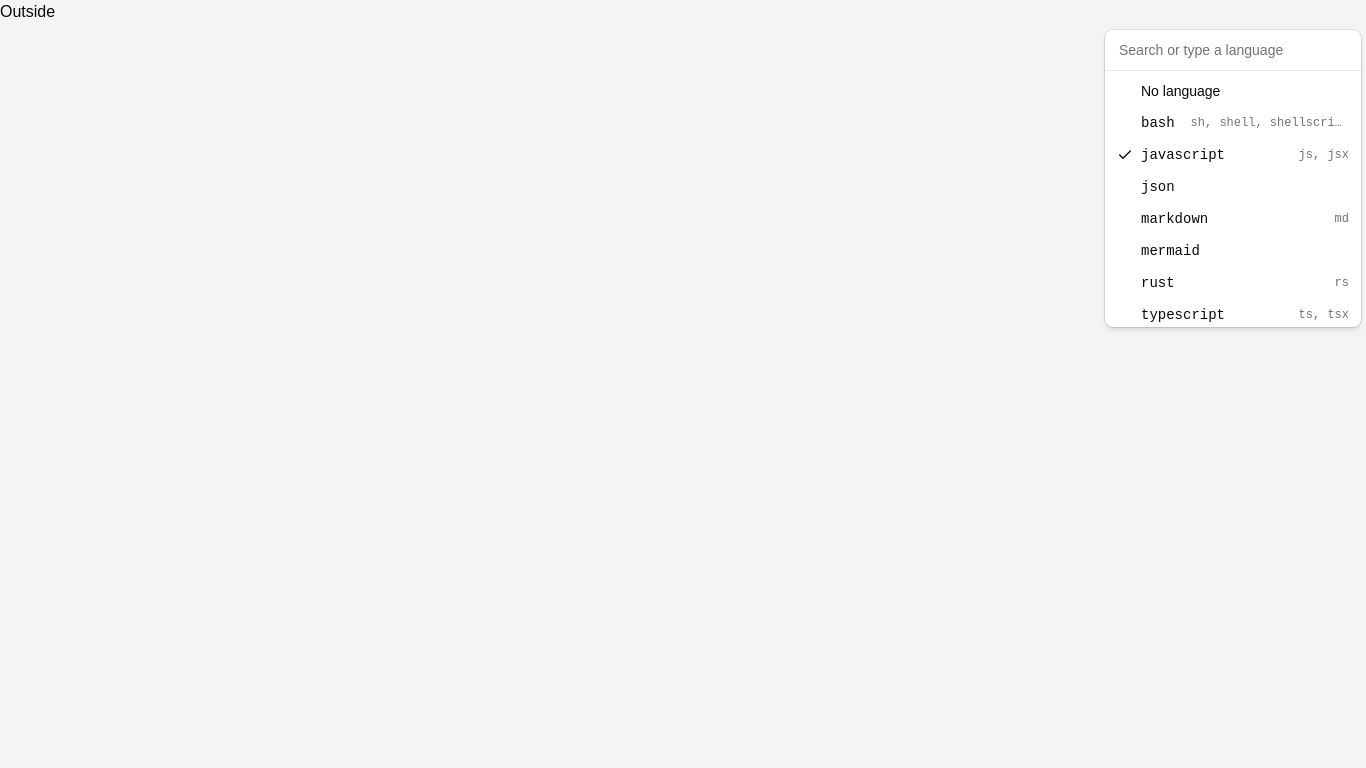
Test: EditorCodeBlockLanguagePicker › cancels with Escape, applying nothing and returning focus
Type "ru" into the dropdown named "Search languages" at (1233,50), box 1109,34 -> 1357,66
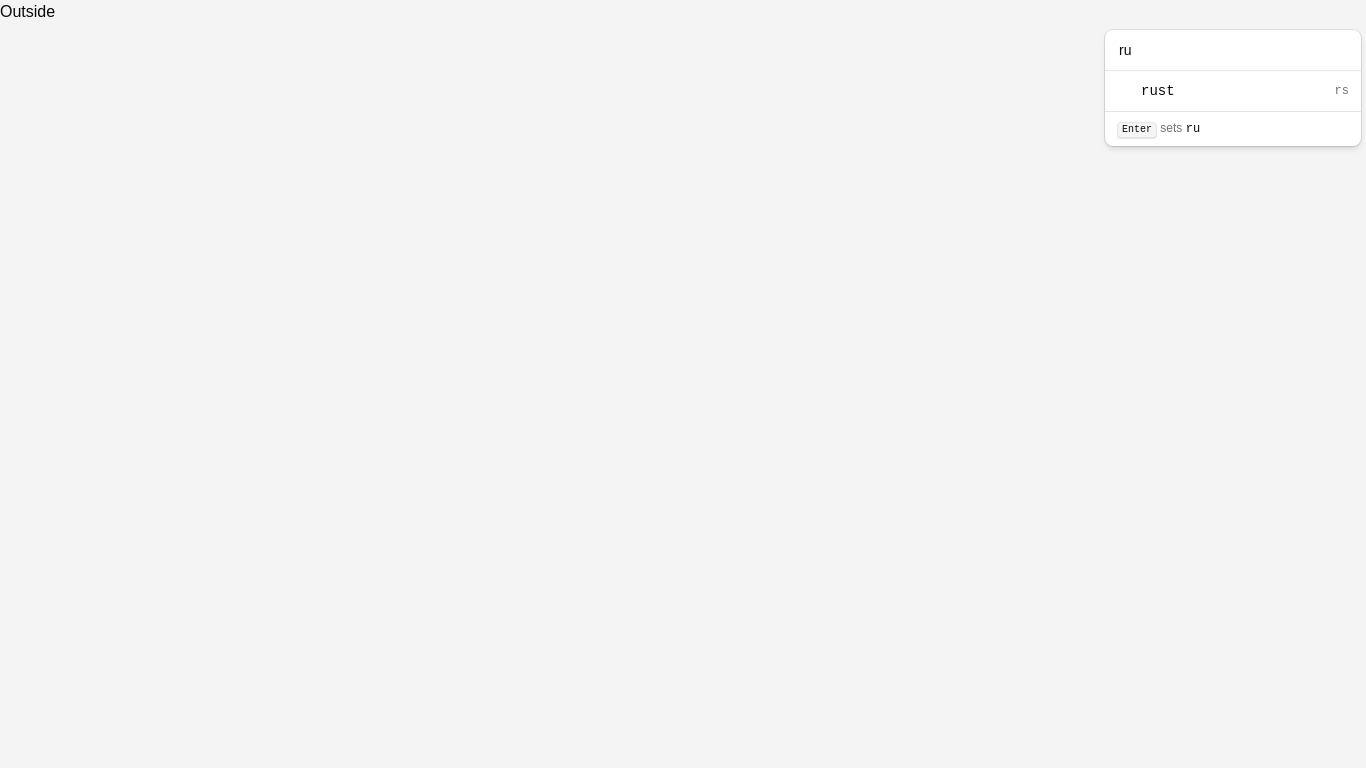
Press Escape
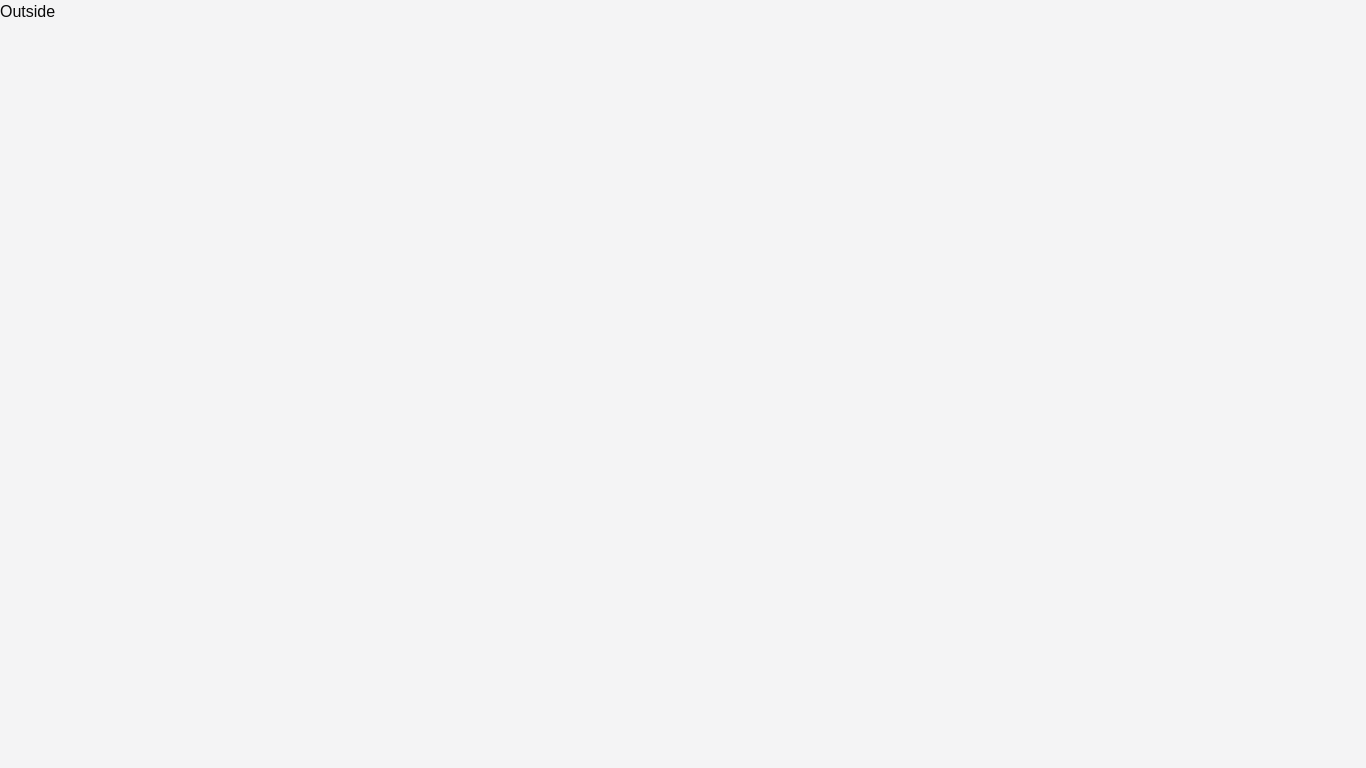
Expected: the dialog with test id "editor-code-block-language-picker" is gone
